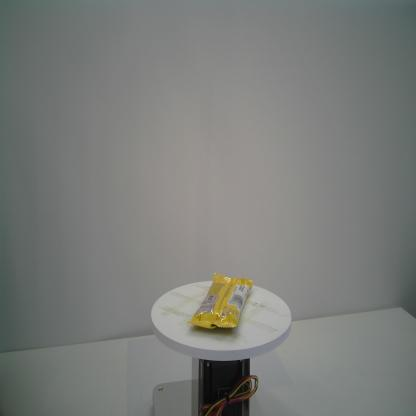Chocolate: (186, 272, 254, 332)
